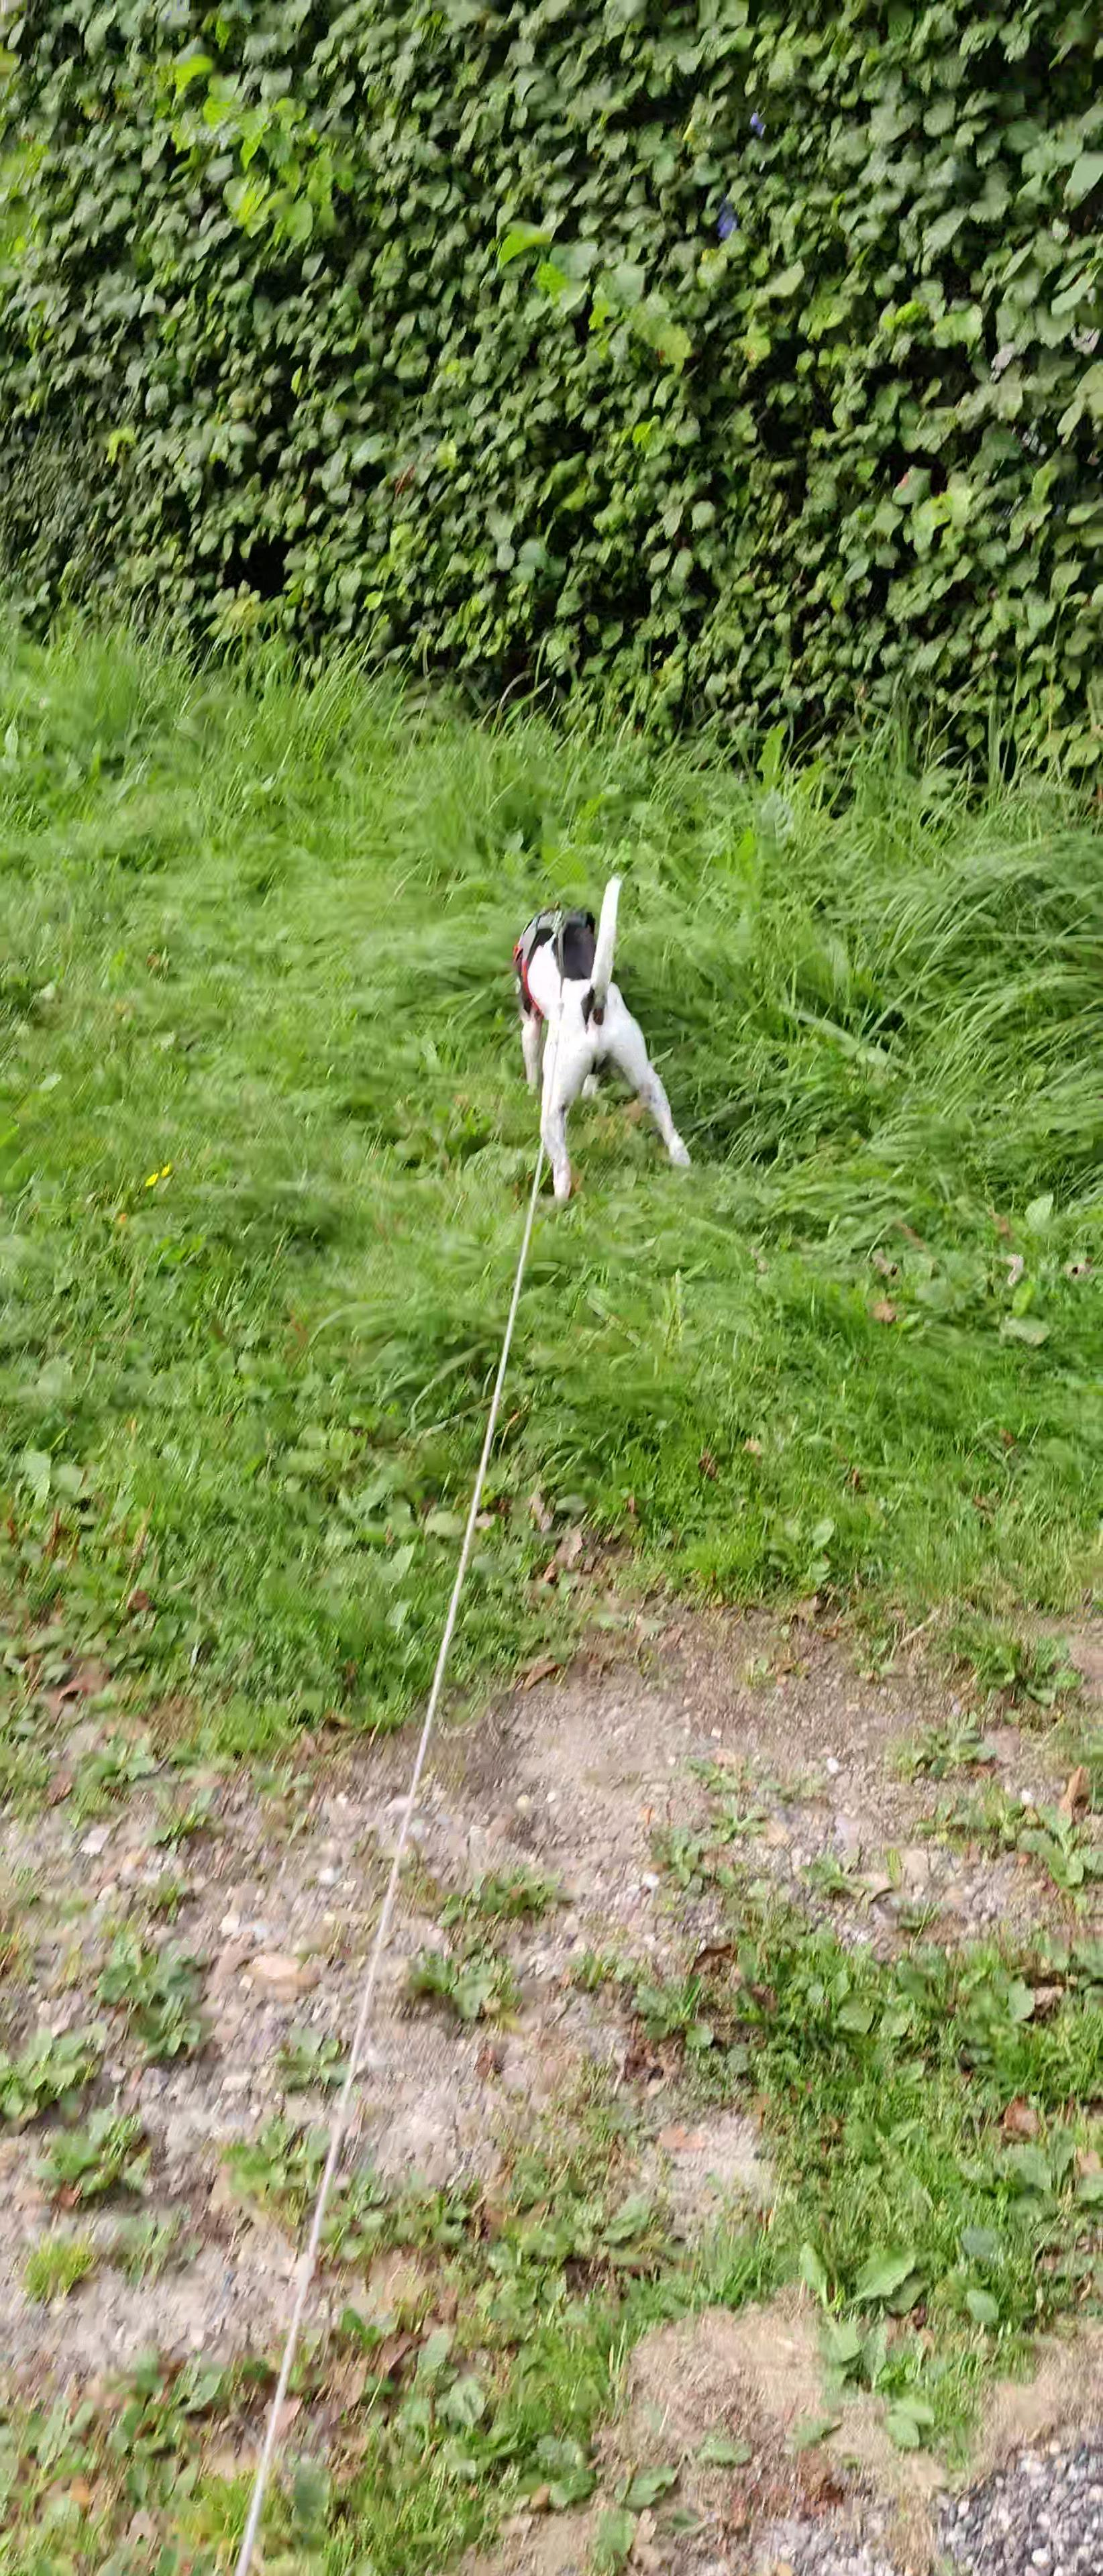Dog: (508, 864, 699, 1207)
